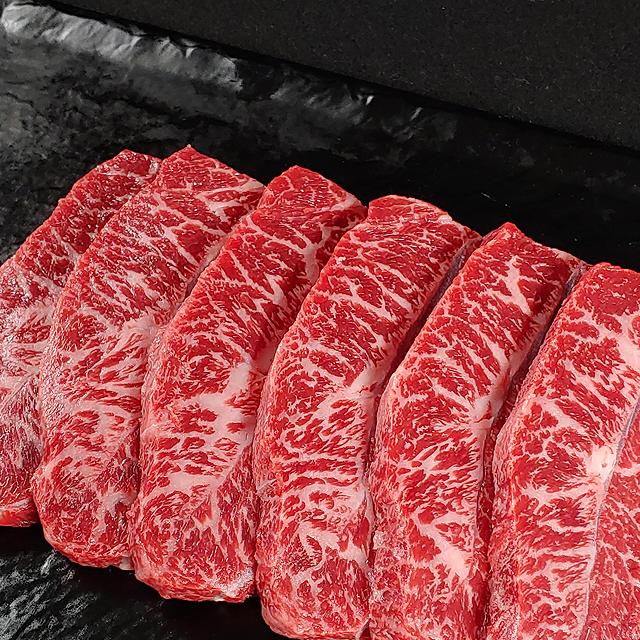beef: (88, 249, 365, 501), (390, 281, 640, 554)
